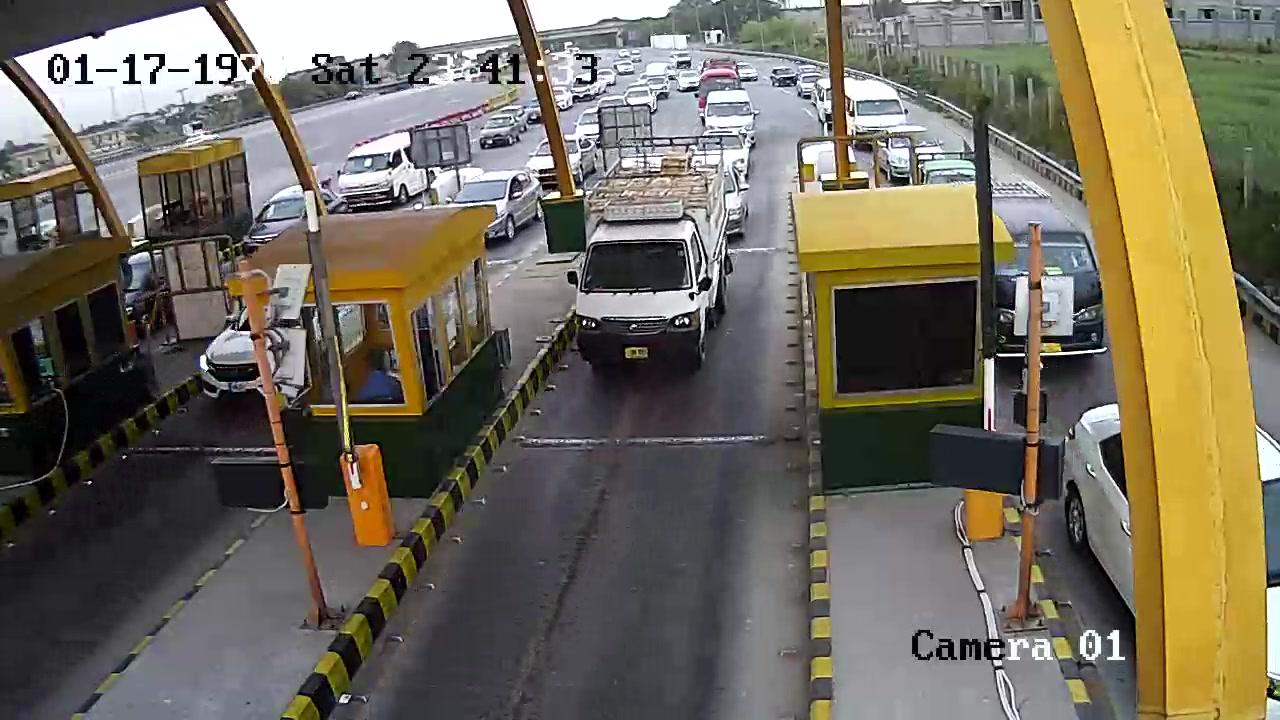F2: (571, 130, 740, 387)
